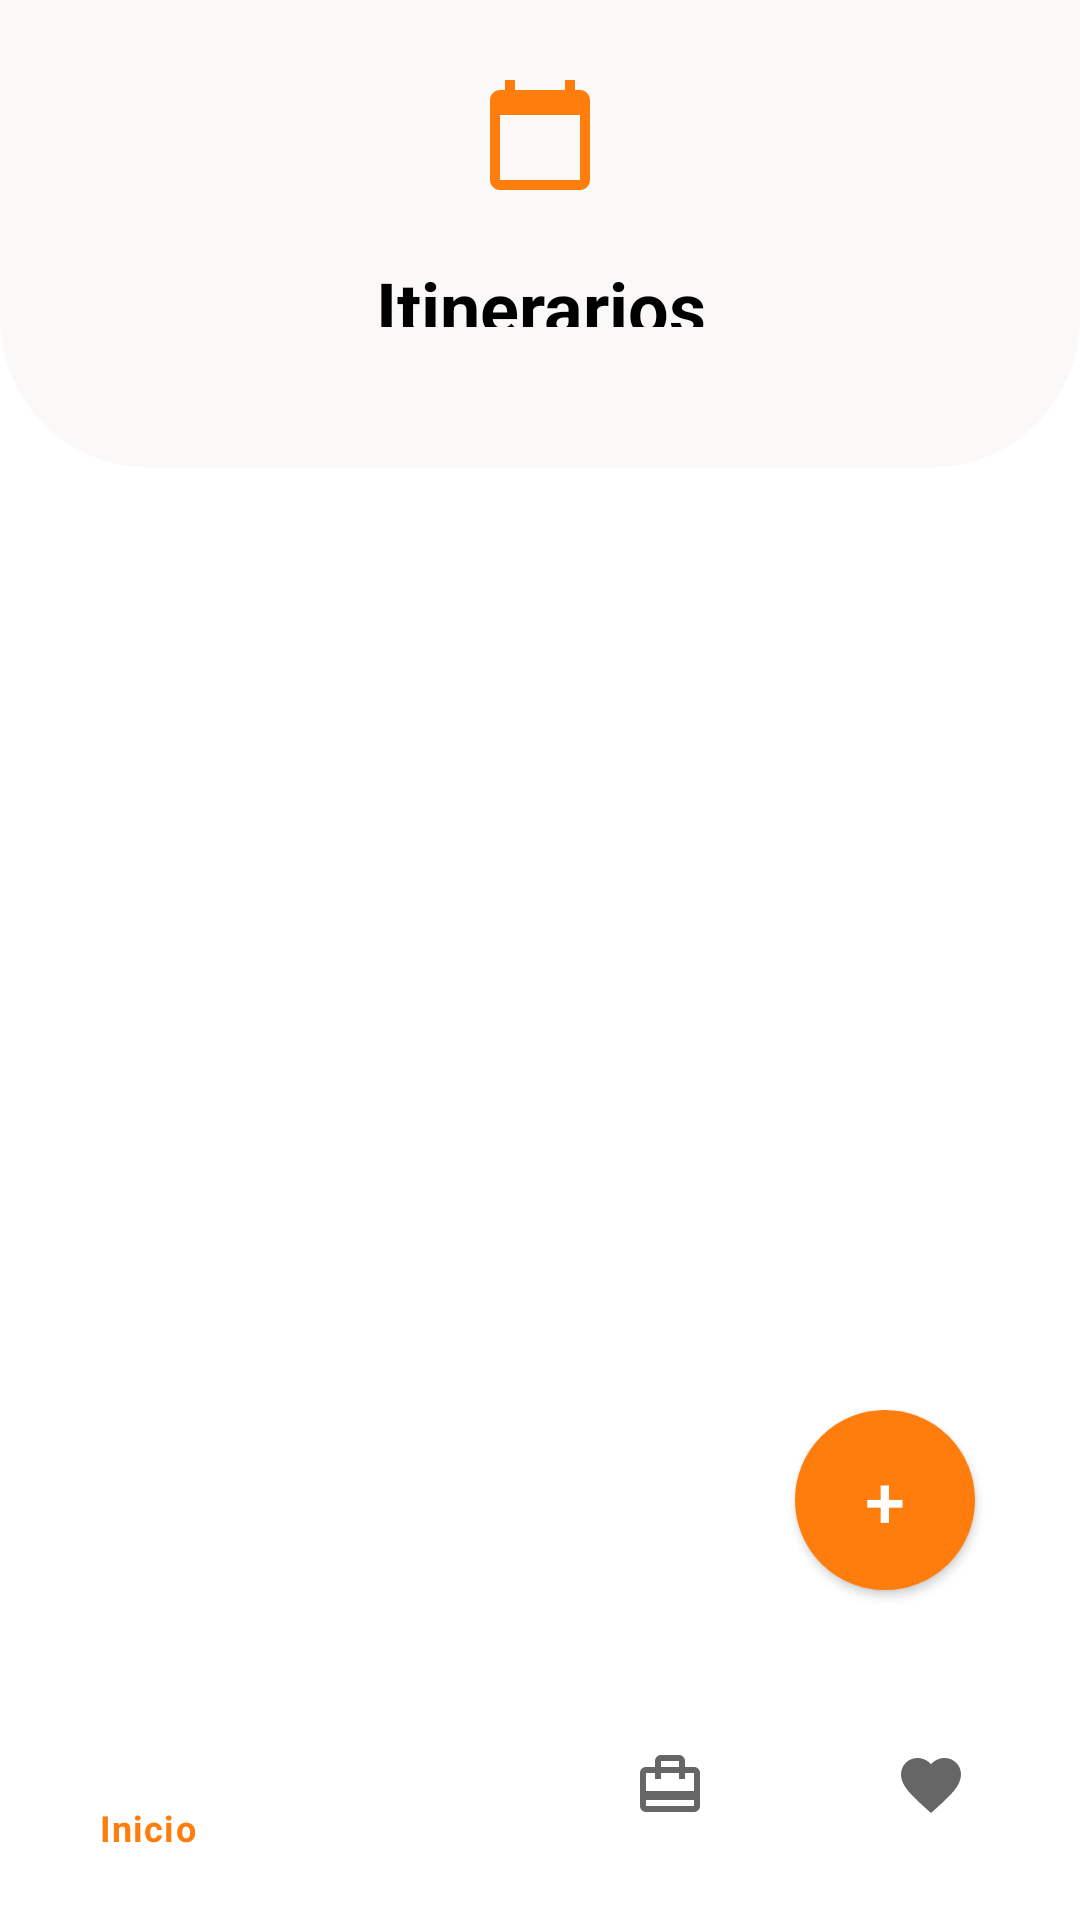

Screen size 1080x1920. Icon name, then its box in pixels as bbox=[x1, y1, x2, y2]:
calendar: bbox=[490, 80, 590, 190]
